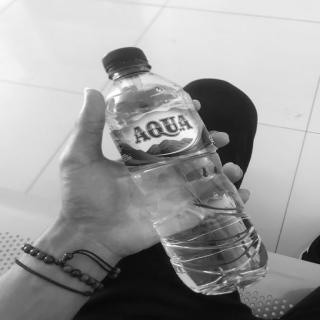plastic_bottles: (102, 48, 267, 294)
